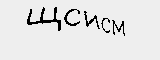И: (83, 9, 100, 34)
М: (110, 19, 127, 37)
С: (64, 2, 81, 29), (97, 17, 115, 37)
Щ: (26, 5, 62, 32)
